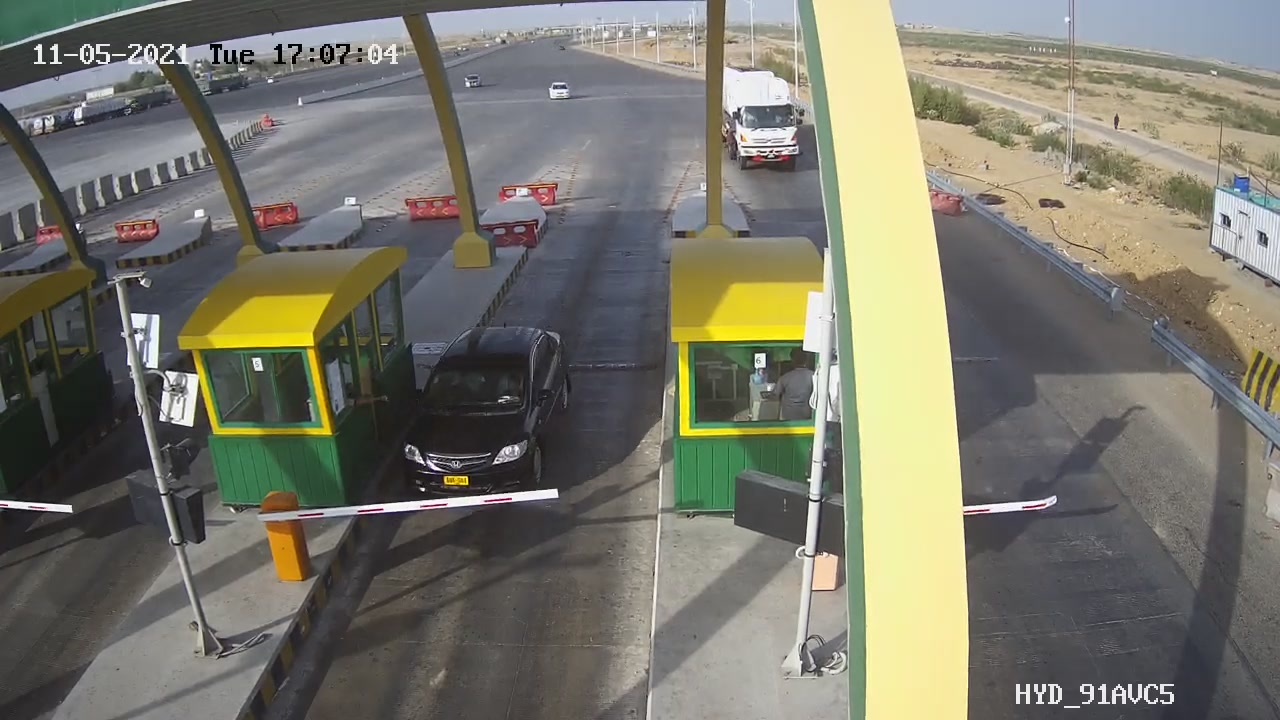F1: (382, 312, 596, 525)
